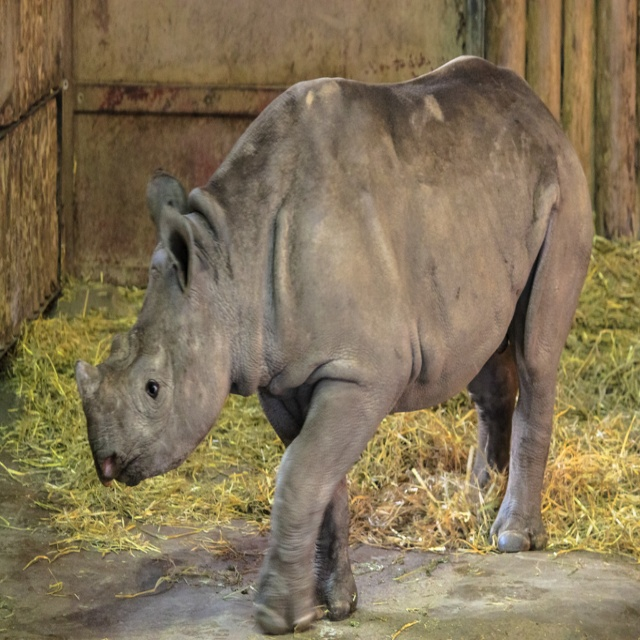Rhinoceros: (71, 46, 600, 639)
